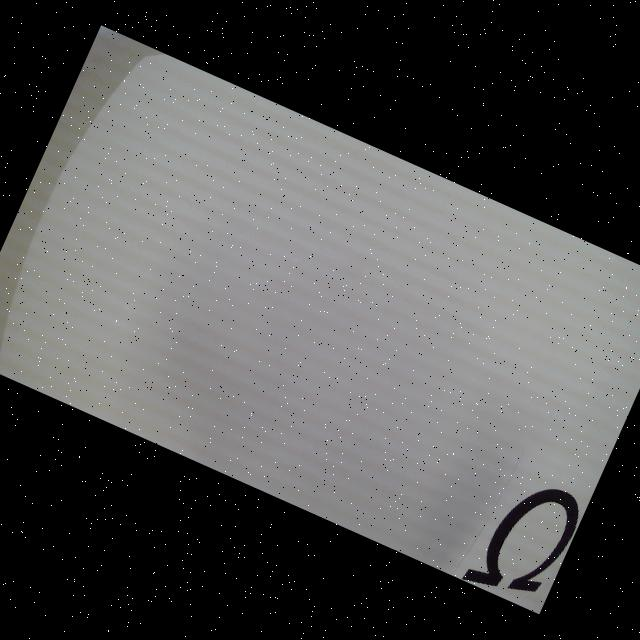OMEGA: (462, 467, 588, 614)
